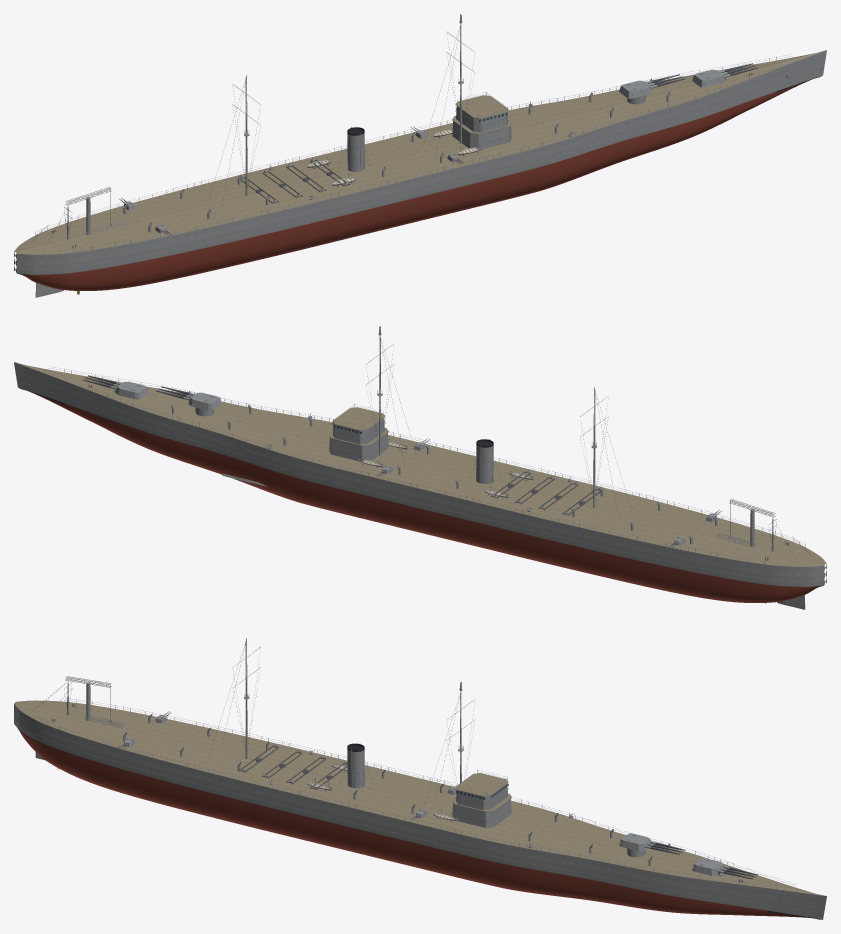
File: atlantis_raider.glb
3 renders of one model, top to bottom at view 1: azimuth 30°, elevation 25°; view 2: azimuth 150°, elevation 25°; view 3: azimuth 330°, elevation 25°, orthographic.
Visible parts, largest first — view 1: Atlantis class; view 2: Atlantis class; view 3: Atlantis class.
Boxes of the visible parts, x1,y1,x2,y2 form: Atlantis class: (14,14,826,297); Atlantis class: (14,326,826,609); Atlantis class: (14,638,826,919).
Bounding box in the file's own units: 232 × 49.66 × 25.01.
8 materials, 2 textured.
